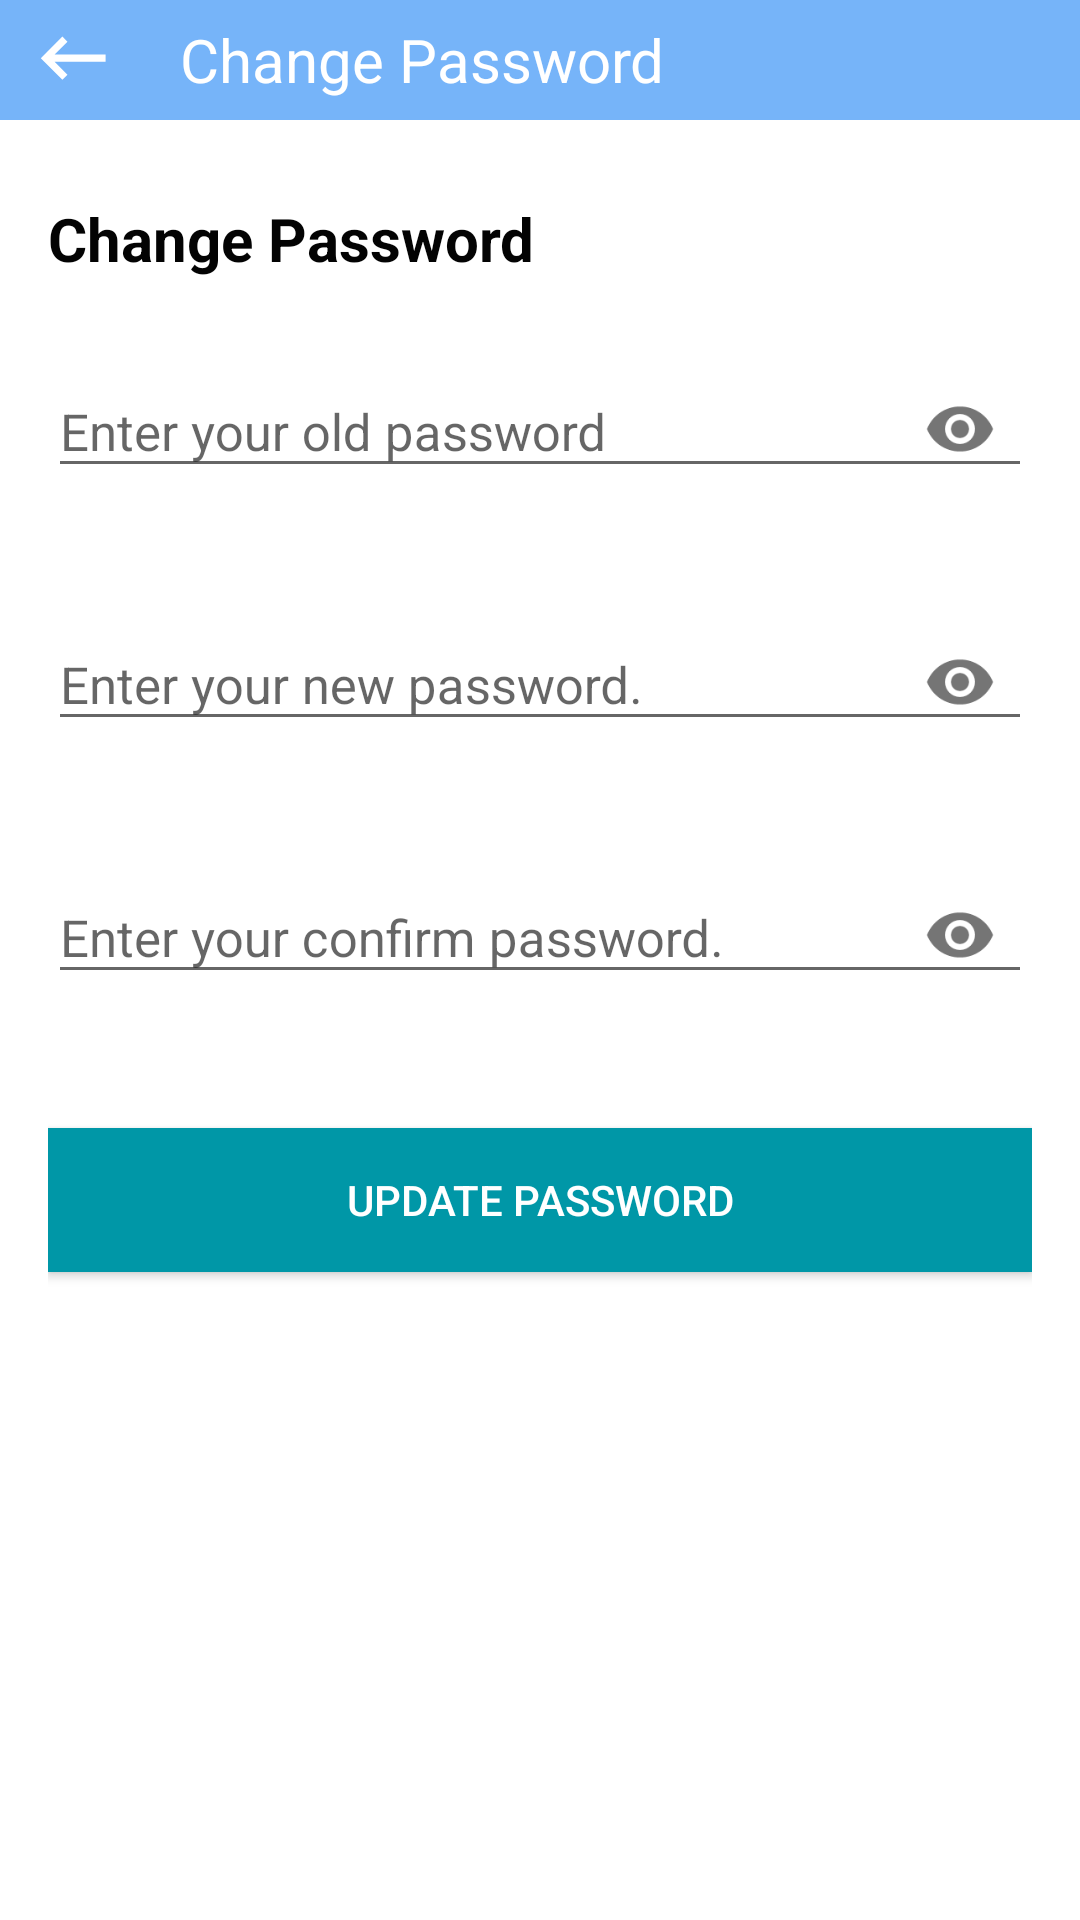

Where to tap for icons on this 1080*1920 app screen, as point (x, y):
back click arrow: point (73, 58)
